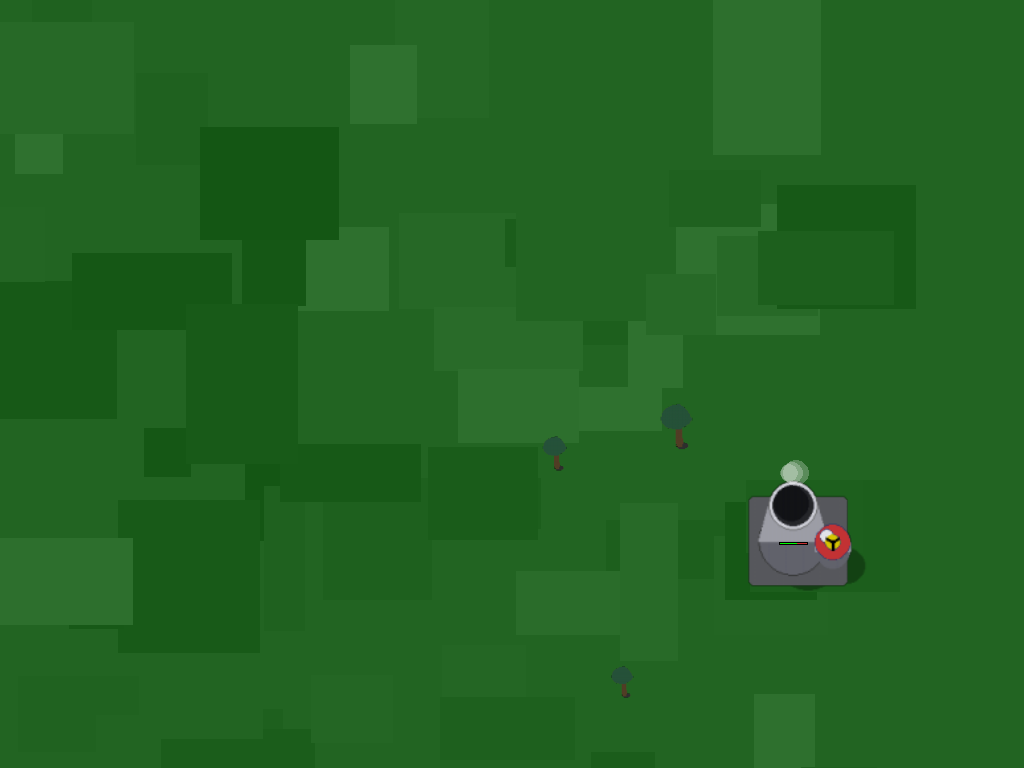APC_usa: (753, 500, 804, 580)
